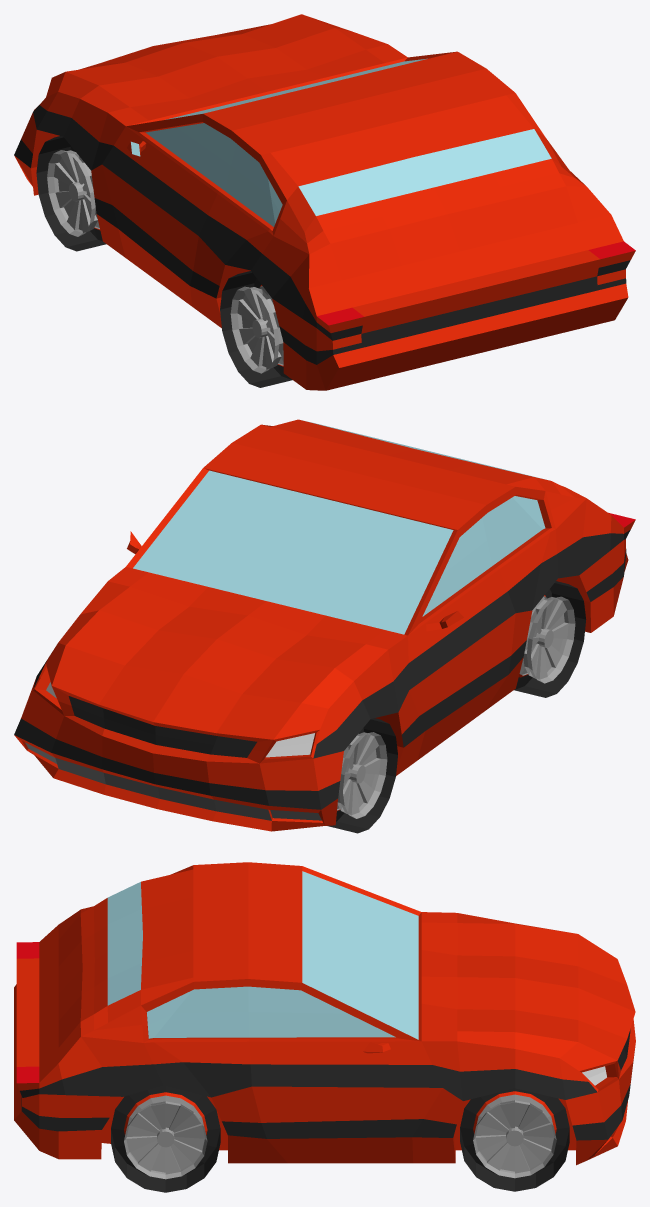
Rendered from car2.fbx.
3 renders of one model, top to bottom at view 1: azimuth 30°, elevation 25°; view 2: azimuth 150°, elevation 25°; view 3: azimuth 270°, elevation 25°, orthographic. The views are drawn at different scales.
Parts seen in each view (by area): view 1: Cube; view 2: Cube; view 3: Cube.
Part boxes in pixels (bbox=[...]): Cube: bbox=[14, 14, 635, 390]; Cube: bbox=[14, 419, 635, 833]; Cube: bbox=[14, 862, 635, 1192].
Bounding box in the file's own units: 225 × 139 × 388.
